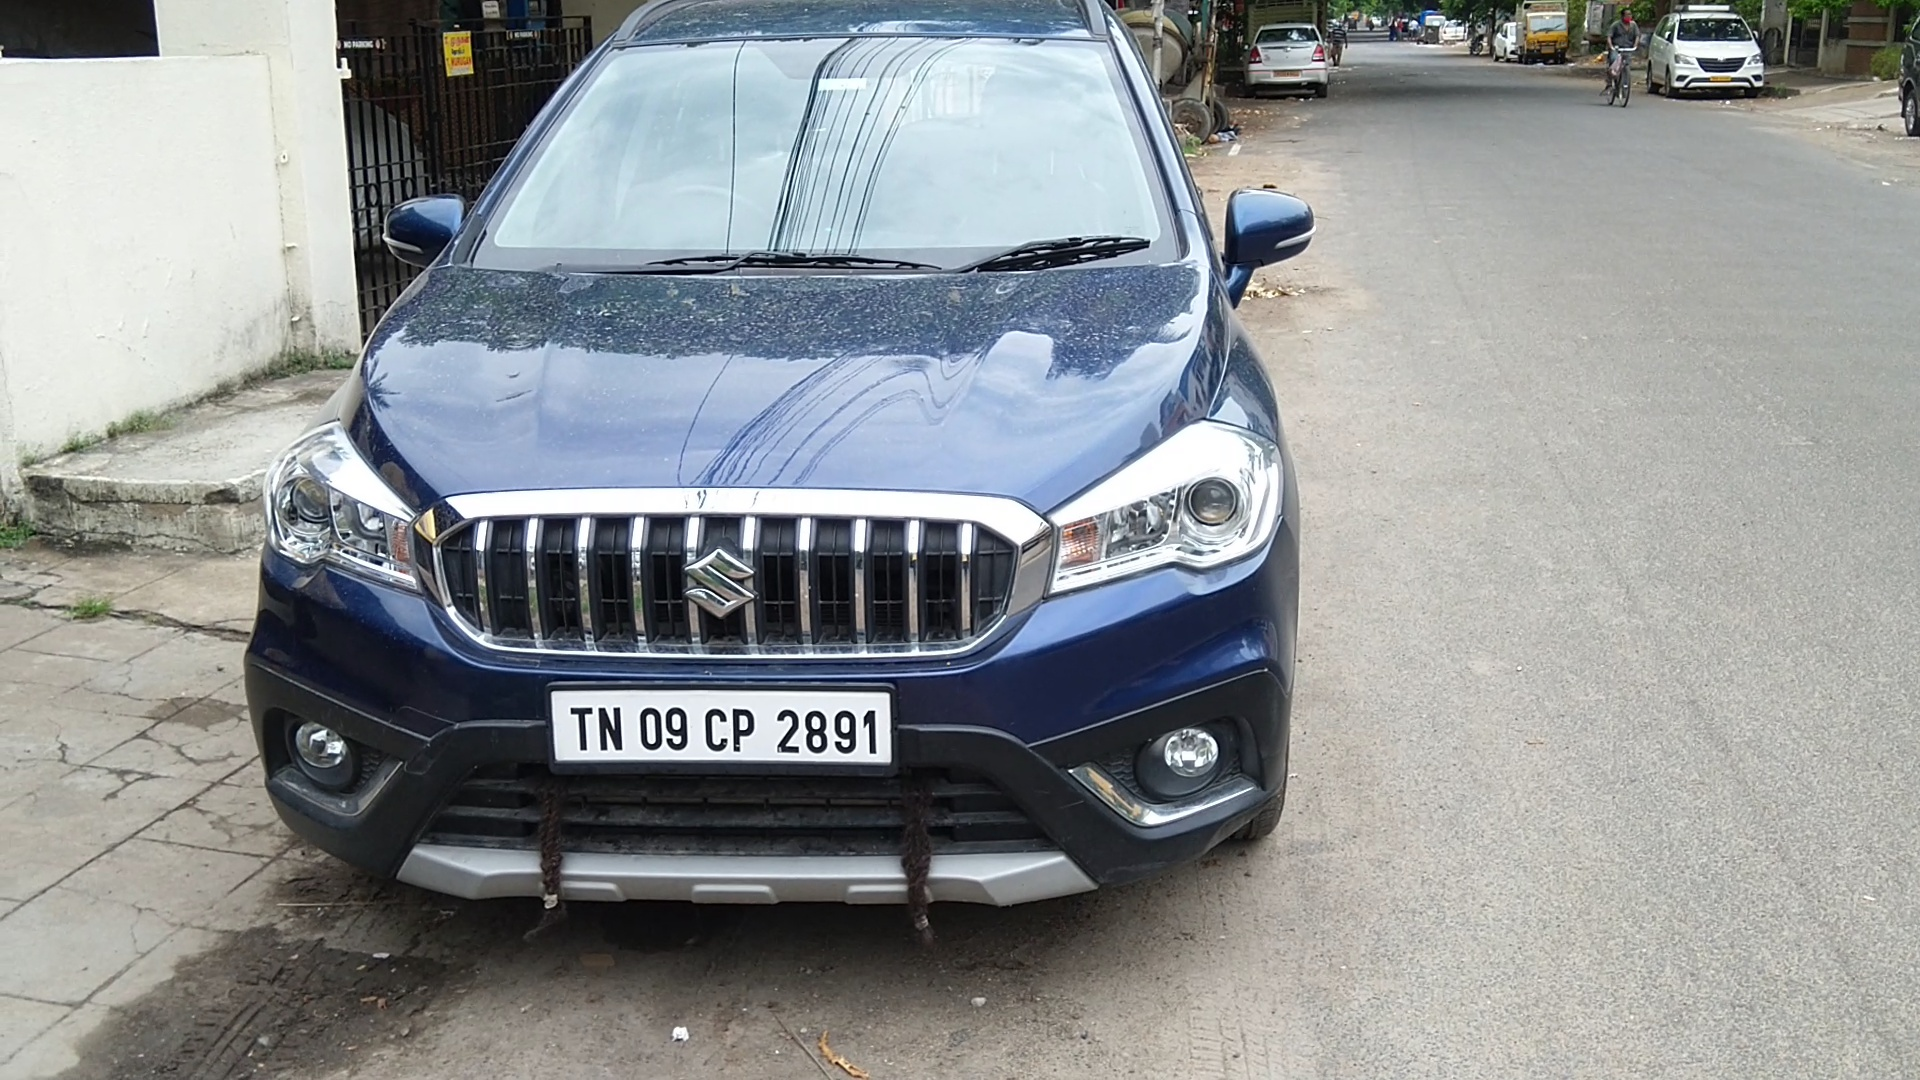front_grill: (433, 481, 1043, 684)
headlamp: (1047, 410, 1284, 599), (258, 415, 423, 611)
ovr_mirror: (1222, 181, 1317, 272), (378, 186, 465, 272)
